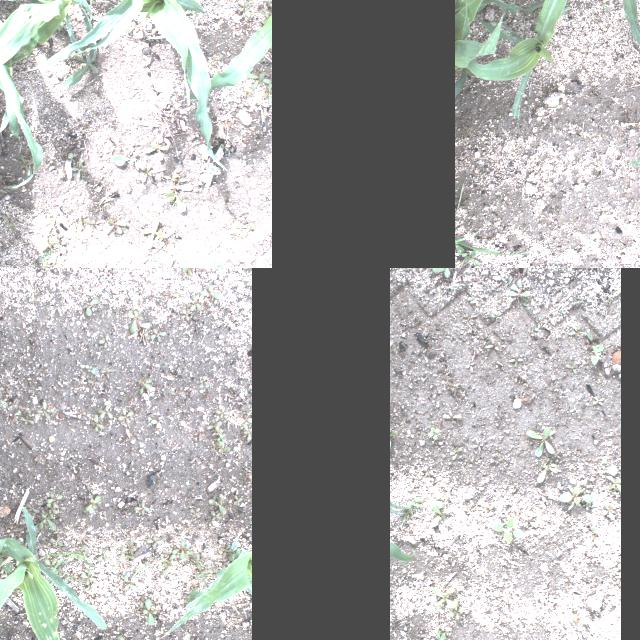crop: (23, 0, 231, 172), (0, 0, 97, 188), (466, 0, 603, 118), (0, 514, 105, 640), (455, 0, 557, 97), (163, 538, 251, 636), (0, 0, 111, 77), (211, 15, 271, 91)
weed: (454, 216, 552, 254), (44, 534, 88, 574), (178, 286, 224, 324), (206, 406, 238, 458), (157, 534, 193, 576), (120, 556, 156, 594), (37, 489, 65, 531), (488, 515, 524, 545), (87, 400, 115, 432), (134, 596, 162, 626), (560, 486, 594, 510), (157, 284, 181, 316), (84, 364, 116, 388), (124, 308, 150, 337), (527, 428, 555, 454), (66, 568, 96, 592), (208, 491, 230, 523), (431, 496, 454, 524), (110, 150, 142, 170), (142, 218, 162, 250), (193, 552, 213, 584), (10, 404, 36, 428), (454, 244, 480, 266), (114, 400, 136, 426), (130, 498, 156, 520), (118, 537, 140, 563), (432, 587, 454, 613), (86, 488, 104, 518), (238, 410, 252, 448), (167, 387, 196, 405), (538, 457, 558, 483), (146, 141, 170, 161), (136, 374, 156, 398), (507, 284, 531, 304), (0, 178, 19, 203), (192, 371, 210, 397), (144, 326, 170, 344), (567, 324, 593, 342), (144, 532, 166, 552), (82, 294, 100, 318), (37, 398, 55, 422), (166, 192, 184, 215), (70, 157, 88, 179), (92, 545, 111, 565), (75, 58, 98, 74), (156, 184, 192, 194), (449, 598, 465, 620), (144, 409, 162, 428), (432, 268, 463, 279), (156, 228, 176, 245), (74, 234, 98, 248), (570, 615, 590, 631), (589, 345, 605, 365), (519, 512, 539, 528), (248, 74, 270, 88), (104, 220, 126, 234), (230, 492, 246, 511), (238, 268, 252, 289), (95, 334, 112, 351), (508, 352, 524, 370), (484, 336, 502, 352), (207, 255, 228, 268), (103, 268, 121, 283), (140, 162, 152, 184), (150, 257, 174, 268), (115, 630, 141, 640), (455, 182, 463, 214), (189, 505, 205, 521), (2, 214, 16, 232), (225, 222, 243, 236), (435, 629, 457, 640), (603, 500, 615, 520), (390, 420, 398, 449), (183, 630, 206, 640), (60, 239, 74, 255), (22, 501, 38, 515), (20, 156, 32, 174), (38, 250, 50, 268), (176, 268, 200, 277), (262, 84, 272, 105), (40, 239, 60, 249), (240, 224, 254, 238), (607, 476, 621, 490), (534, 488, 548, 502), (409, 496, 421, 512), (400, 507, 412, 523), (160, 245, 174, 258), (240, 0, 250, 18), (471, 512, 489, 522), (119, 510, 133, 522), (68, 460, 82, 472), (566, 362, 578, 376), (566, 512, 578, 526), (36, 268, 56, 276), (46, 462, 56, 478), (428, 426, 438, 442), (610, 557, 620, 573), (590, 527, 598, 547), (210, 54, 223, 66), (149, 256, 162, 268), (192, 430, 205, 442), (206, 165, 220, 175), (452, 448, 462, 462), (472, 438, 483, 450), (68, 215, 76, 231), (410, 482, 418, 498), (441, 413, 462, 419), (66, 152, 76, 164), (125, 22, 137, 32), (48, 220, 58, 232), (490, 310, 500, 322), (88, 222, 102, 230), (466, 361, 474, 374), (554, 306, 564, 316), (421, 467, 433, 475), (0, 400, 8, 411), (258, 238, 270, 245), (464, 313, 478, 319), (220, 143, 230, 151), (245, 90, 255, 98), (51, 252, 56, 268), (466, 297, 476, 305), (261, 10, 267, 22), (78, 214, 82, 232), (535, 323, 543, 332), (593, 398, 605, 404), (455, 263, 468, 268), (606, 296, 612, 306), (164, 174, 178, 178), (172, 178, 186, 182), (266, 230, 272, 238), (490, 502, 496, 510), (266, 0, 271, 8), (222, 114, 228, 120), (75, 262, 81, 268), (556, 552, 562, 558), (47, 166, 55, 170), (268, 252, 272, 260), (46, 232, 54, 236), (602, 4, 610, 8), (604, 459, 608, 467)
